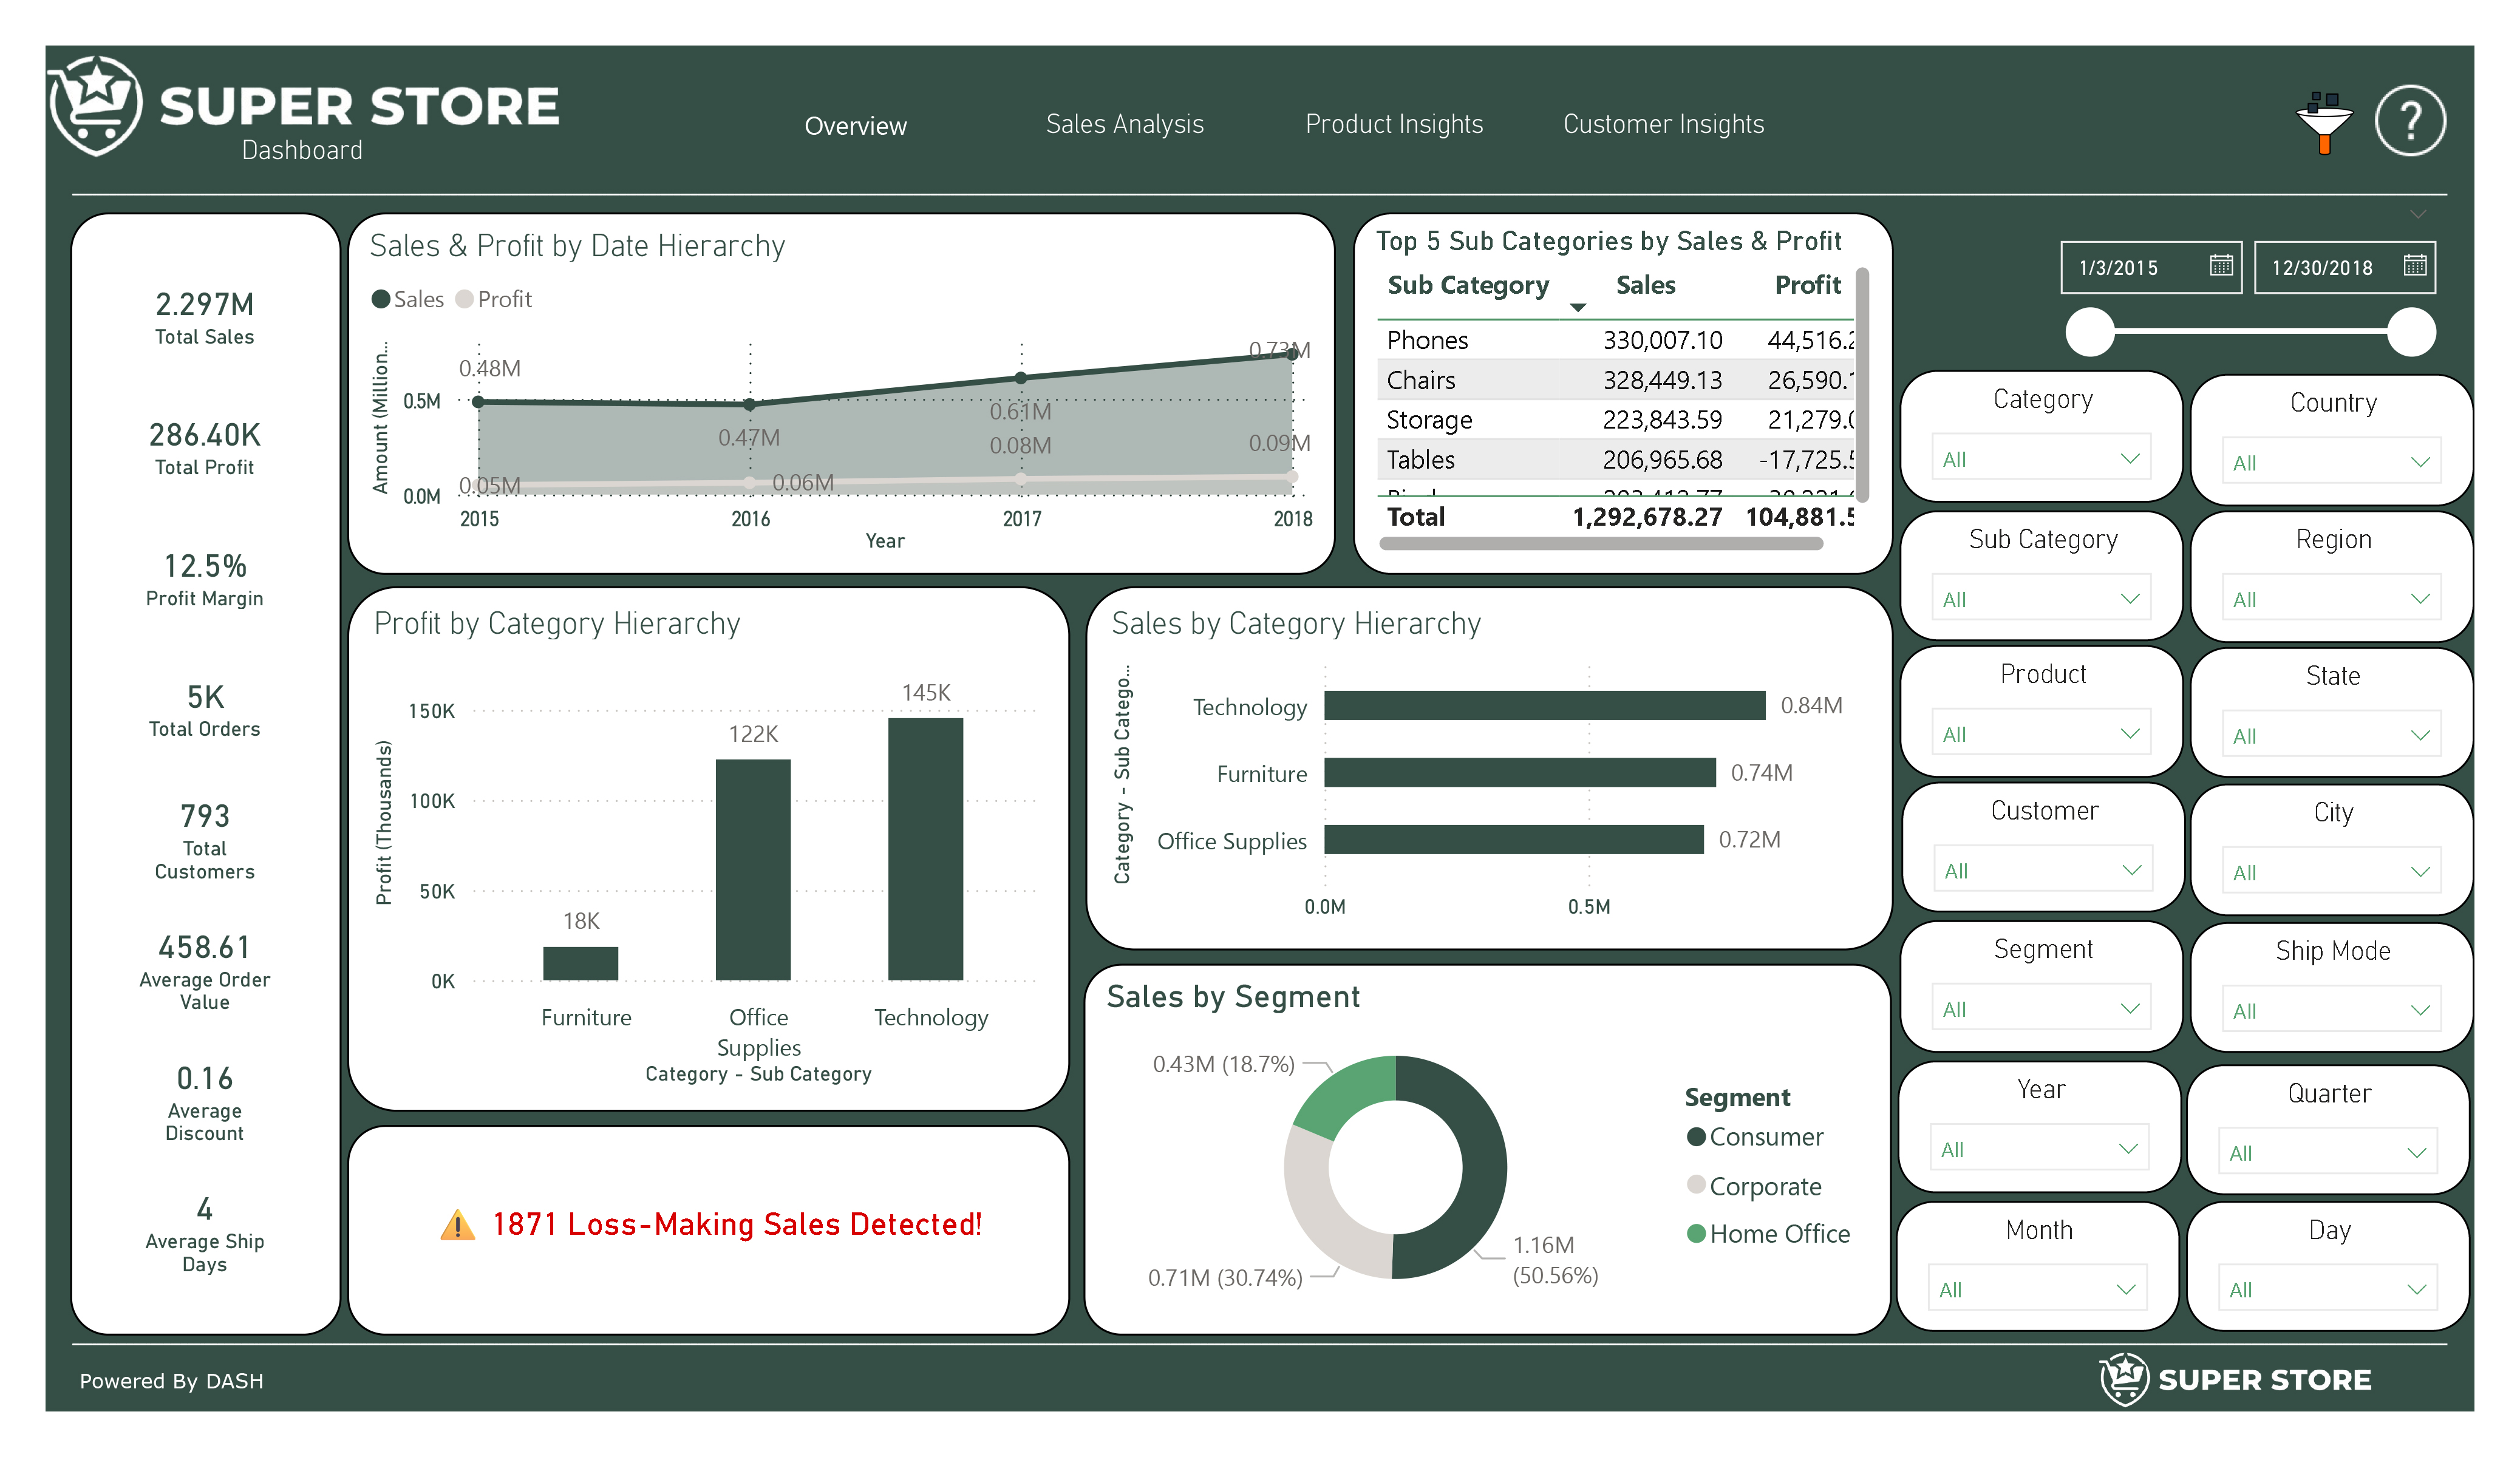

What the dashboard file says about the page in this screenshot:
{"tool":"powerbi","page":{"name":"Overview","canvas":[1280,720],"ordinal":0},"visuals":[{"type":"pageNavigator","box":[360.8,16.5,559.4,49.6],"z":0},{"type":"textbox","box":[0,64.4,1280,27.8],"z":1000},{"type":"textbox","box":[2.1,41.4,266.8,27.9],"z":2000},{"type":"image","box":[1226,9.1,41.2,61.4],"z":3000},{"type":"image","box":[0,0,270.9,64.1],"z":4000},{"type":"textbox","box":[0,670,1280,27.8],"z":5000},{"type":"image","box":[1040,688.8,227.5,28.8],"z":6000},{"type":"slicer","fields":{"Values":["Order.order_date"]},"box":[1049,79,219,104],"z":7000},{"type":"lineChart","title":"Sales & Profit by Date Hierarchy ","fields":{"Category":["Calendar.Date Hierarchy.Year","Calendar.Date Hierarchy.Quarter","Calendar.Date Hierarchy.Month Name","Calendar.Date Hierarchy.Day Name"],"Y":["Sum(Order Details.sales)","Sum(Order Details.profit)"]},"box":[159.2,87.9,521.1,191.3],"z":8000},{"type":"textbox","box":[13.1,689,133.8,31.2],"z":9000},{"type":"image","box":[1183.8,22.1,34.2,37.2],"z":10000},{"type":"cardVisual","fields":{"Data":["Calculations Measure.Total Sales","Calculations Measure.Total Profit","Calculations Measure.Profit Margin","Calculations Measure.Total Orders","Calculations Measure.Total Customers","Calculations Measure.Average Order Value","Calculations Measure.Average Discount","Calculations Measure.Average Ship Days"]},"box":[13.1,87.5,142.8,592.4],"z":11000},{"type":"clusteredBarChart","title":"Sales by Category Hierarchy","fields":{"Category":["Category.category","Sub Category.sub_category"],"Y":["Sum(Order Details.sales)"]},"box":[548,285.4,426,191.3],"z":12000},{"type":"donutChart","title":"Sales by Segment","fields":{"Category":["Segment.segment"],"Y":["Sum(Order Details.sales)"]},"box":[546.9,483.9,426,196.4],"z":13000},{"type":"clusteredColumnChart","title":"Profit by Category Hierarchy","fields":{"Category":["Category.category","Sub Category.sub_category"],"Y":["Sum(Order Details.profit)"]},"box":[159.2,285.4,380.5,277.1],"z":14000},{"type":"cardVisual","fields":{"Data":["Calculations Measure.Profit Warning Message"]},"box":[159.2,568.7,380.5,111.7],"z":15000},{"type":"tableEx","title":"Top 5 Sub Categories by Sales & Profit","fields":{"Values":["Sub Category.sub_category","Sum(Order Details.sales)","Sum(Order Details.profit)"]},"box":[688.6,87.9,285.4,191.3],"z":16000},{"type":"slicer","title":"Country","fields":{"Values":["Country.country"]},"box":[1129.8,172.5,150,70],"z":17000},{"type":"slicer","title":"State","fields":{"Values":["State.state"]},"box":[1130.1,316.7,149.9,69.4],"z":18000},{"type":"slicer","title":"Region","fields":{"Values":["Region.region"]},"box":[1130.1,245.3,149.9,69.4],"z":19000},{"type":"slicer","title":"Sub Category","fields":{"Values":["Sub Category.sub_category"]},"box":[977.5,244.9,149.9,69.4],"z":20000},{"type":"slicer","title":"Product","fields":{"Values":["Product.product_name"]},"box":[977.5,316.3,149.9,69.4],"z":21000},{"type":"slicer","title":"Category","fields":{"Values":["Category.category"]},"box":[977.5,171.5,149.9,69.4],"z":22000},{"type":"slicer","title":"City","fields":{"Values":["City.city"]},"box":[1130.1,389.1,149.9,69.4],"z":23000},{"type":"slicer","title":"Ship Mode","fields":{"Values":["Ship Mode.ship_mode"]},"box":[1130.1,461.5,149.9,69.4],"z":24000},{"type":"slicer","title":"Customer","fields":{"Values":["Customer.customer_name"]},"box":[978.5,387.7,149.9,69.4],"z":25000},{"type":"slicer","title":"Segment","fields":{"Values":["Segment.segment"]},"box":[977.5,461.2,149.9,69.4],"z":26000},{"type":"slicer","title":"Quarter","fields":{"Values":["Calendar.Quarter"]},"box":[1128,536.6,149.9,69.4],"z":27000},{"type":"slicer","title":"Day","fields":{"Values":["Calendar.Day Name"]},"box":[1128,609,149.9,69.4],"z":28000},{"type":"slicer","title":"Year","fields":{"Values":["Calendar.Year"]},"box":[976.4,535.2,149.9,69.4],"z":29000},{"type":"slicer","title":"Month","fields":{"Values":["Calendar.Month Name"]},"box":[975.4,608.6,149.9,69.4],"z":30000}]}

Visuals, with their boxes on the page's 1280x720 design canvas (x1, y1, x2, y2). These are canvas units, not pixel positions in the 2520x1457 screenshot, which may show the page scaled, cropped or inside an application window:
pageNavigator: box(361, 16, 920, 66)
textbox: box(0, 64, 1280, 92)
textbox: box(2, 41, 269, 69)
image: box(1226, 9, 1267, 70)
image: box(0, 0, 271, 64)
textbox: box(0, 670, 1280, 698)
image: box(1040, 689, 1268, 718)
slicer - Order.order_date: box(1049, 79, 1268, 183)
"Sales & Profit by Date Hierarchy " lineChart: box(159, 88, 680, 279)
textbox: box(13, 689, 147, 720)
image: box(1184, 22, 1218, 59)
cardVisual - Calculations Measure.Total Sales x Calculations Measure.Total Profit: box(13, 88, 156, 680)
"Sales by Category Hierarchy" clusteredBarChart: box(548, 285, 974, 477)
"Sales by Segment" donutChart: box(547, 484, 973, 680)
"Profit by Category Hierarchy" clusteredColumnChart: box(159, 285, 540, 562)
cardVisual - Calculations Measure.Profit Warning Message: box(159, 569, 540, 680)
"Top 5 Sub Categories by Sales & Profit" tableEx: box(689, 88, 974, 279)
"Country" slicer: box(1130, 172, 1280, 242)
"State" slicer: box(1130, 317, 1280, 386)
"Region" slicer: box(1130, 245, 1280, 315)
"Sub Category" slicer: box(978, 245, 1127, 314)
"Product" slicer: box(978, 316, 1127, 386)
"Category" slicer: box(978, 172, 1127, 241)
"City" slicer: box(1130, 389, 1280, 458)
"Ship Mode" slicer: box(1130, 462, 1280, 531)
"Customer" slicer: box(978, 388, 1128, 457)
"Segment" slicer: box(978, 461, 1127, 531)
"Quarter" slicer: box(1128, 537, 1278, 606)
"Day" slicer: box(1128, 609, 1278, 678)
"Year" slicer: box(976, 535, 1126, 605)
"Month" slicer: box(975, 609, 1125, 678)
